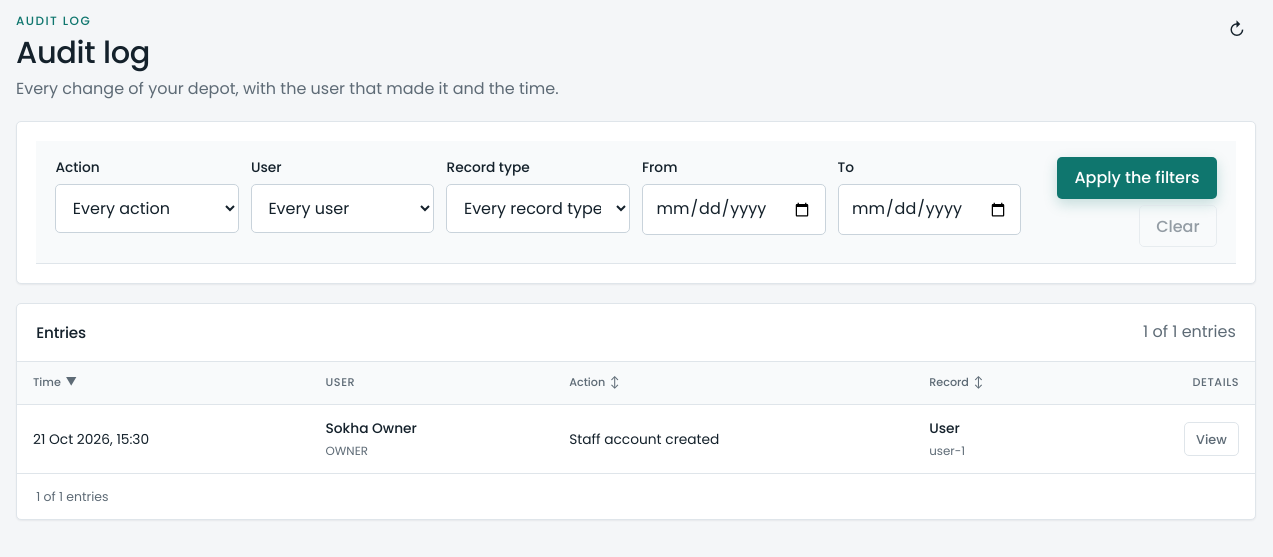
Test: the audit log › refuses a period where the first day is after the last day
Check: the button "View" is shown, box [1184,422,1239,456]
Type "2026-11-01" into the date field labelled "From".
click(734, 210); type("2026-11-01")  # box [642,184,826,235]
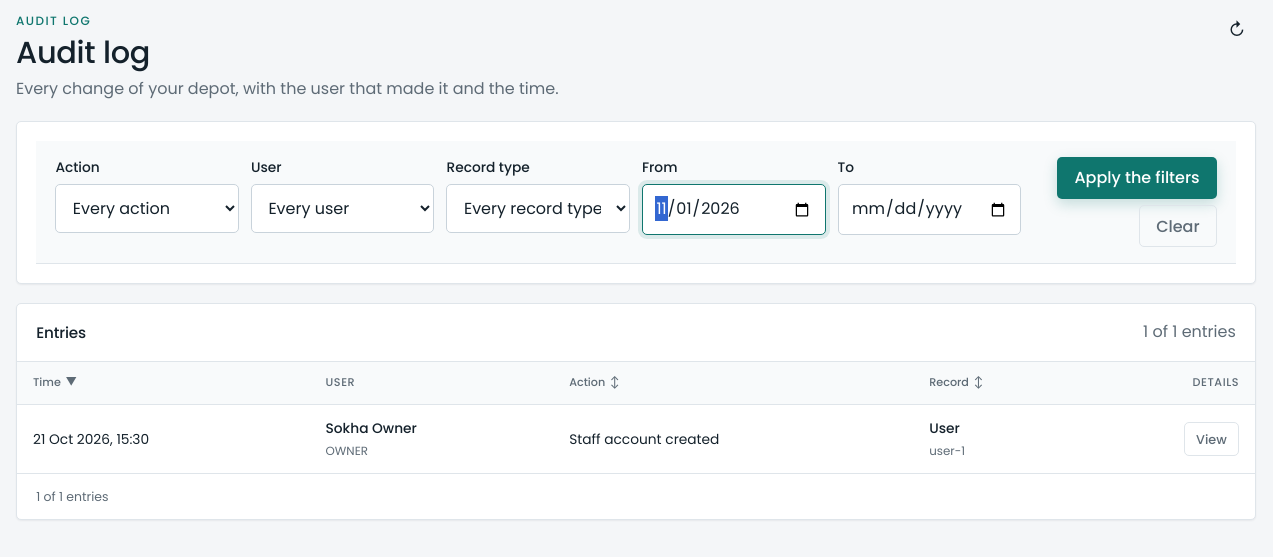
Type "2026-10-01" into the date field labelled "To".
click(929, 210); type("2026-10-01")  # box [838,184,1021,235]
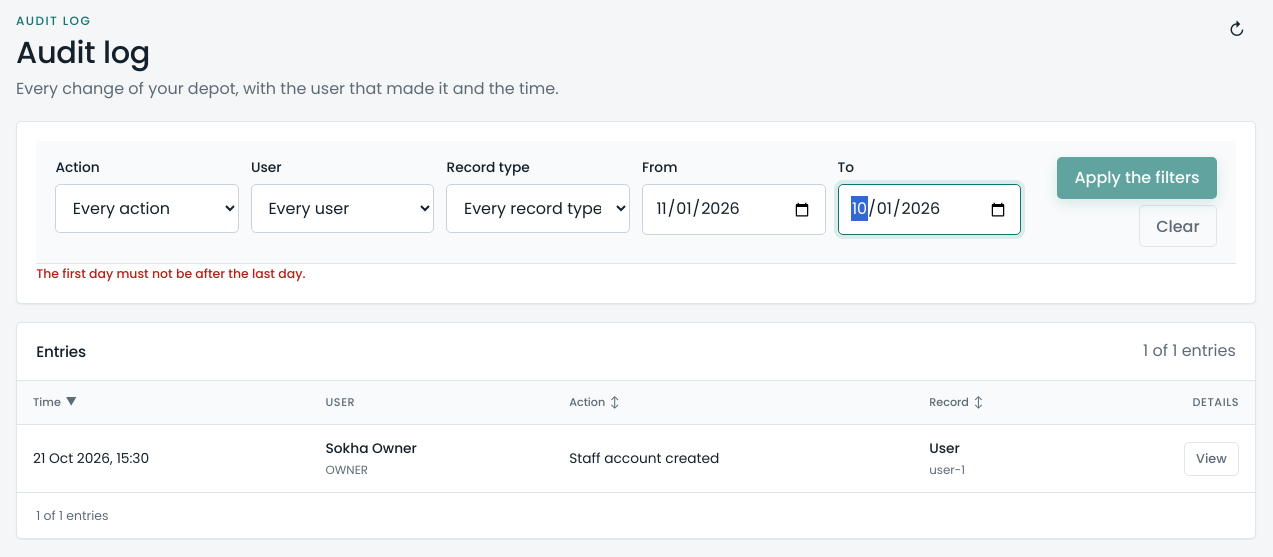
Check: the text "The first day must not be after the last day." is shown, box [36,265,305,282]
Check: the button "Apply the filters" is disabled, box [1057,157,1217,199]
